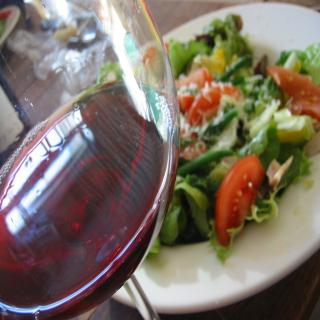Salad: (144, 11, 320, 266)
Tomato: (210, 157, 280, 246), (180, 68, 242, 138), (267, 66, 320, 122)
